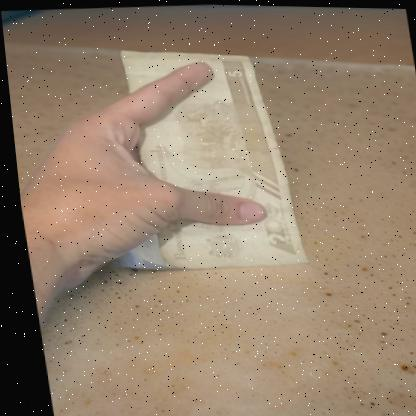five-back-vef: (118, 41, 304, 272)
